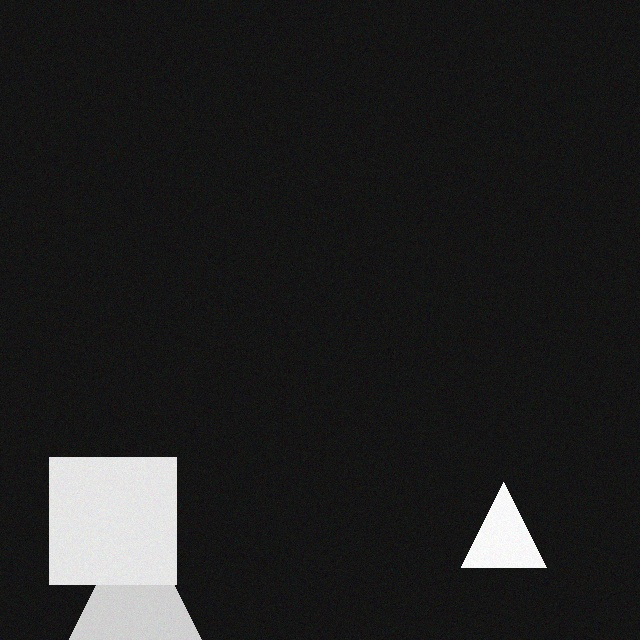square: (49, 443, 176, 570)
triangle: (68, 493, 202, 627), (461, 468, 546, 553)
